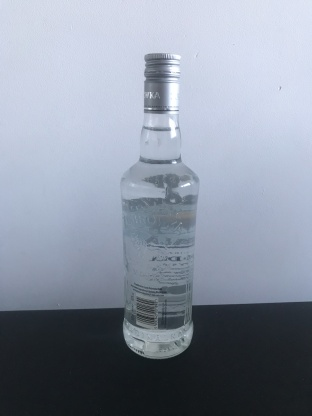nakretka: (142, 51, 183, 116)
